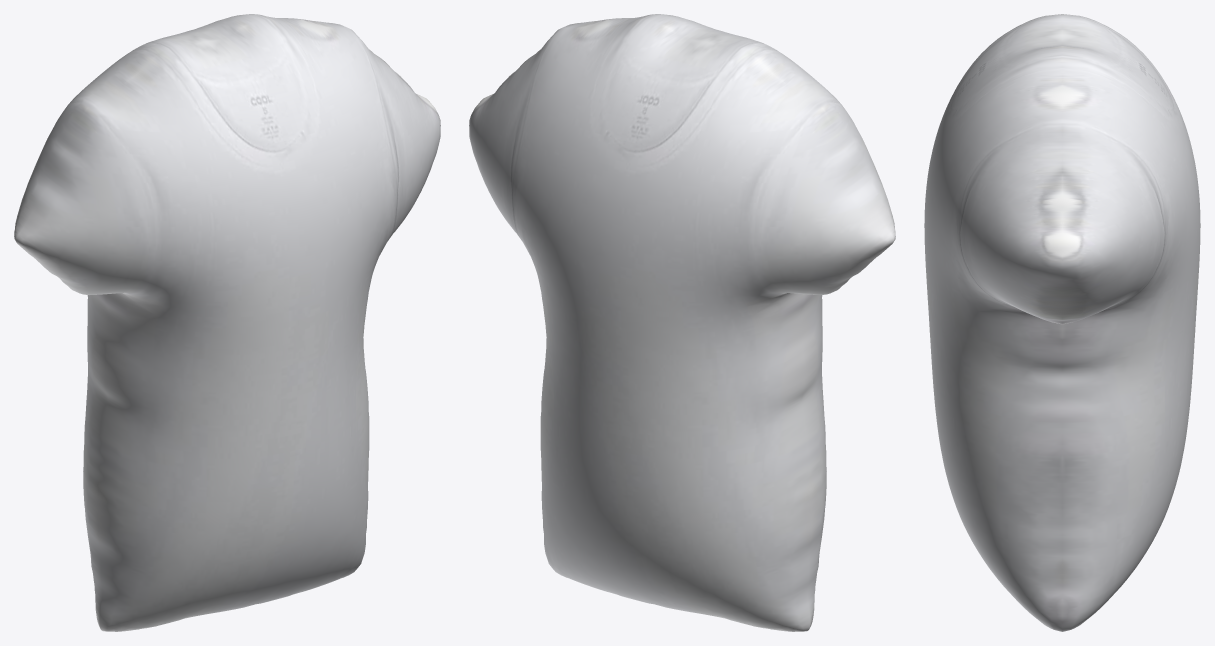
The model's file is cloth@15=cloth_front.glb.
The picture shows the model from 3 angles, left to right: view 1: azimuth 30°, elevation 25°; view 2: azimuth 150°, elevation 25°; view 3: azimuth 270°, elevation 25°; orthographic projection. The views are drawn at different scales.
Bounding box in the file's own units: 5.74 × 7.48 × 3.46.
Materials: 1 (1 with a texture image).
